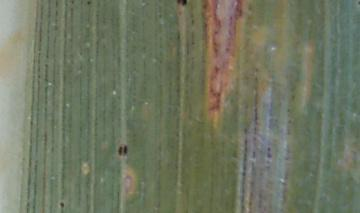tarspot: (176, 1, 189, 7), (123, 144, 129, 155), (118, 145, 123, 157), (86, 1, 92, 6), (60, 202, 65, 208)
